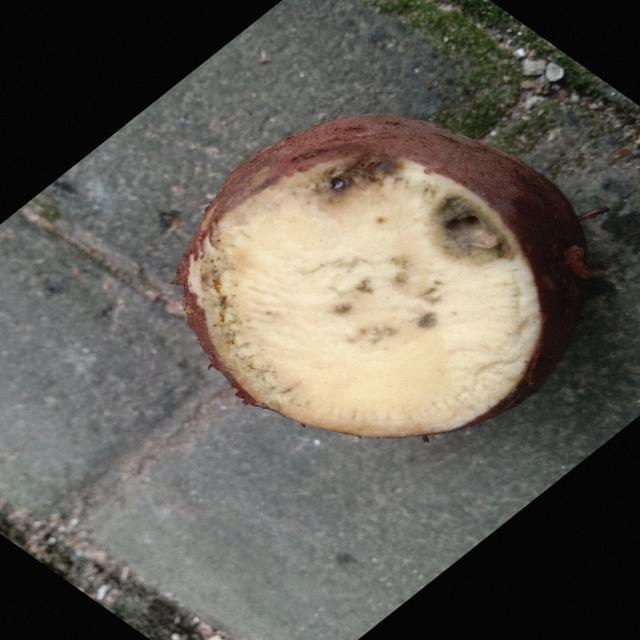Sick Sweet Potato_Tuber Rot: (177, 151, 542, 438)
